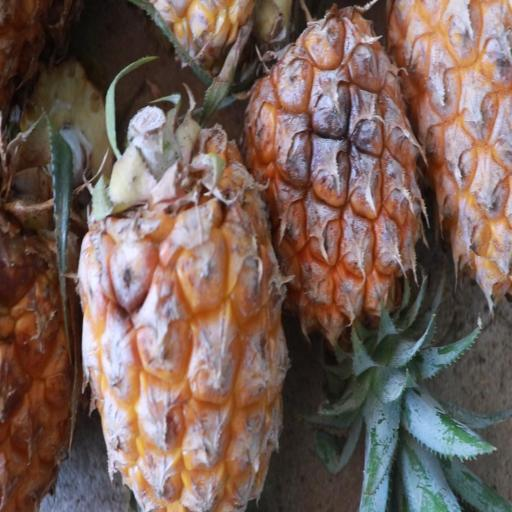Pineapple - v8 v1: (73, 121, 291, 512), (230, 0, 428, 385)
